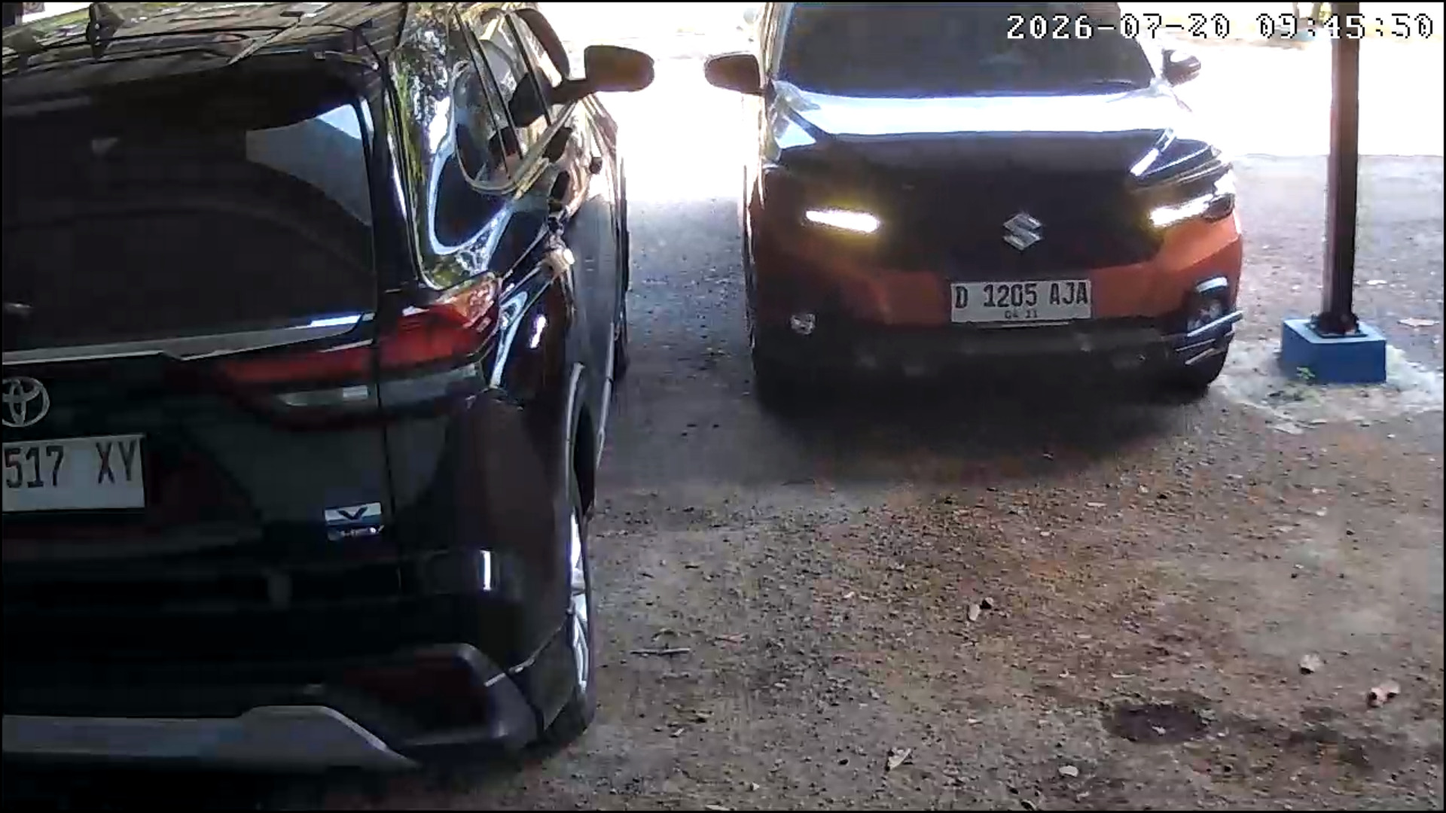plat nomor: (947, 278, 1094, 325)
